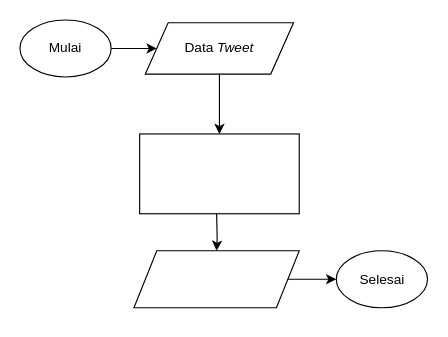
This 448x337 diagram has some shape labels left out. Each missing label, with the centre of its shape:
Melakukan spliting pada semua kalimat yang disimpan dalam bentuk array: (219,173)
Simpan Hasil Tokenization: (216,279)
